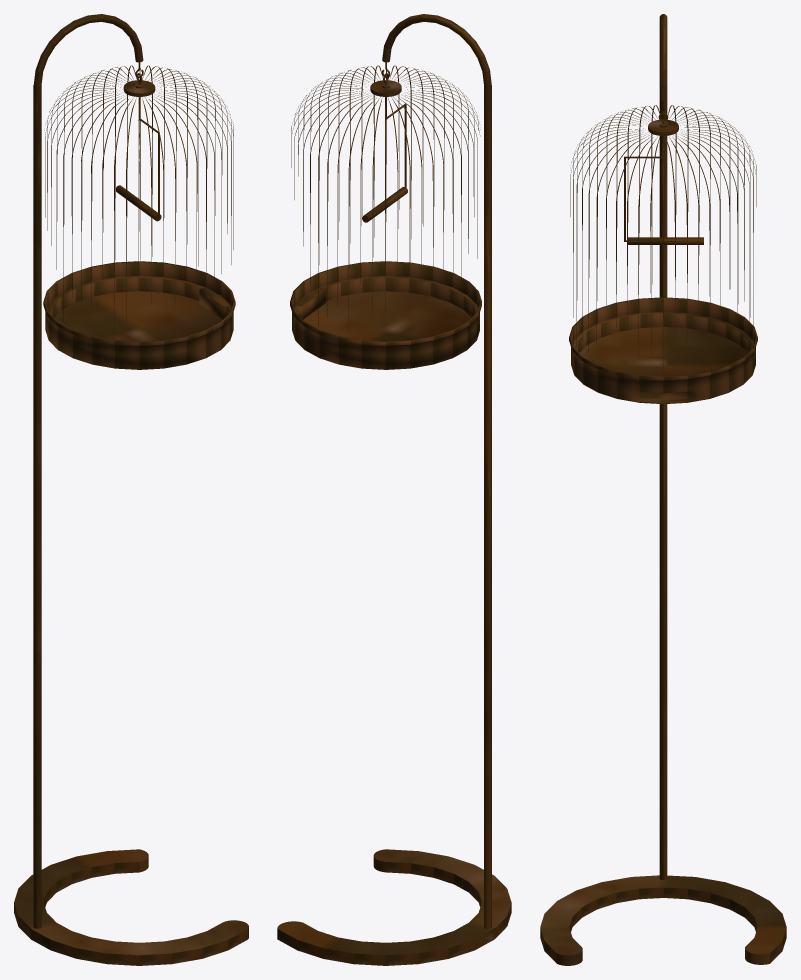
File: birdcage.glb
The picture shows the model from 3 angles, left to right: view 1: azimuth 30°, elevation 25°; view 2: azimuth 150°, elevation 25°; view 3: azimuth 270°, elevation 25°; orthographic projection.
Visible parts, largest first — view 1: Material2; view 2: Material2; view 3: Material2.
Boxes of the visible parts, x1,y1,x2,y2 form: Material2: (14,14,248,965); Material2: (277,14,511,965); Material2: (540,14,786,965).
Size of what is drawn, in the model's own units: 0.1104 by 0.5 by 0.125.
1 material, 1 textured.
